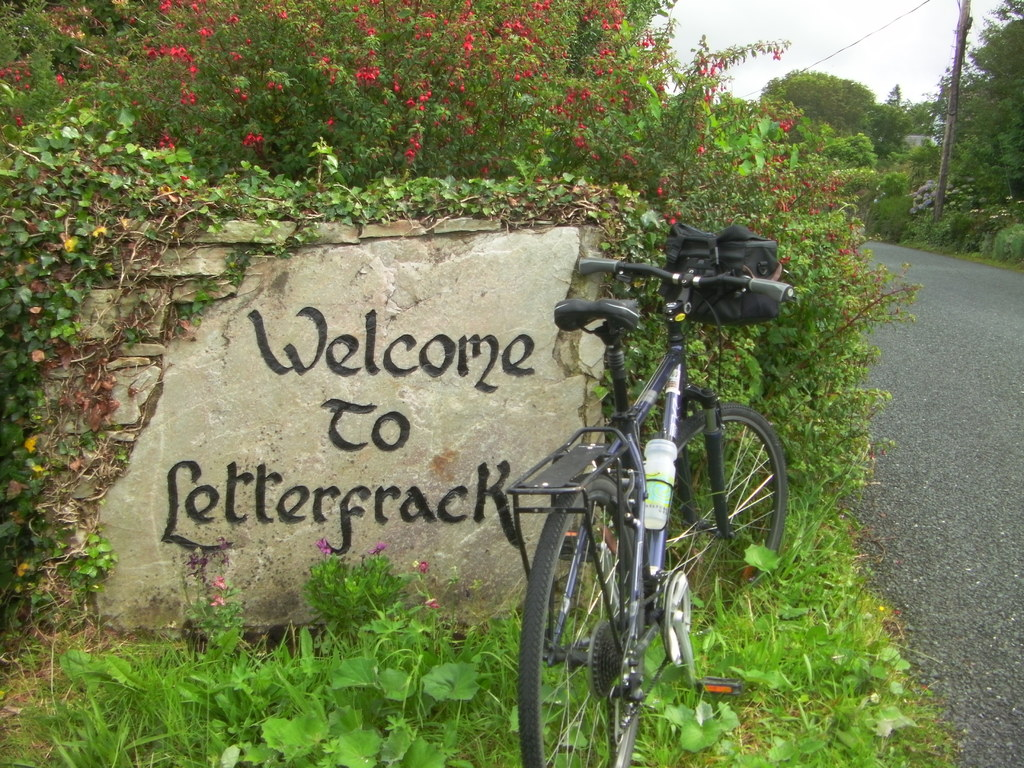Bike_away: (514, 232, 788, 757)
